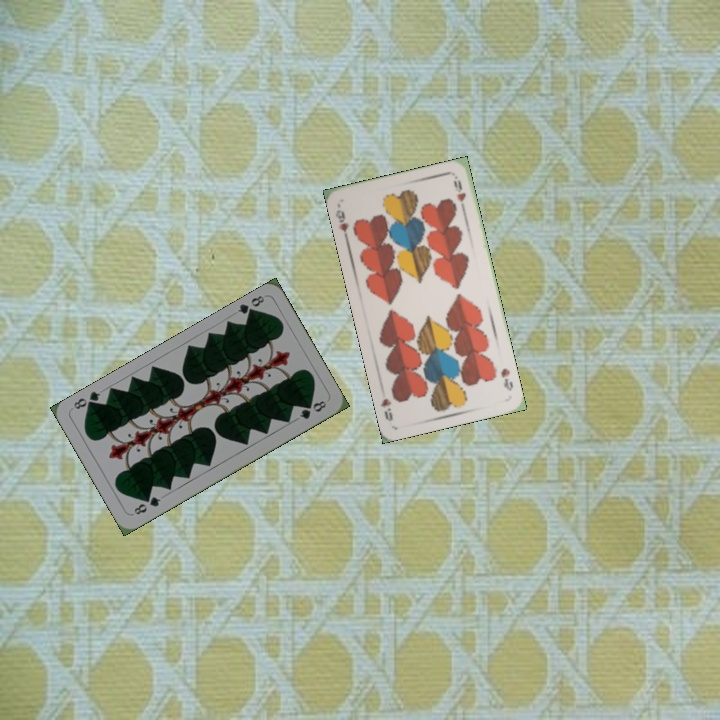G8: (233, 291, 267, 320), (130, 492, 163, 517)
H9: (331, 201, 352, 242), (497, 364, 516, 393)
